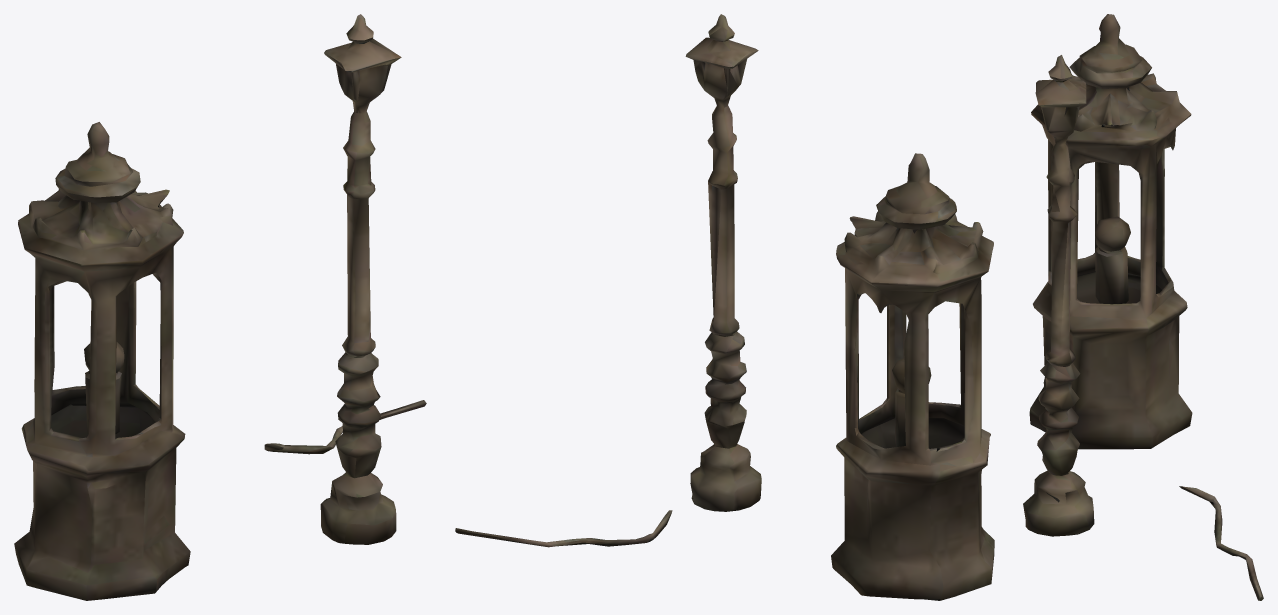
File: old-wood-lamp-post-v001.glb
3 renders of one model, left to right at view 1: azimuth 30°, elevation 25°; view 2: azimuth 150°, elevation 25°; view 3: azimuth 270°, elevation 25°, orthographic. The views are drawn at different scales.
Visible parts, largest first — view 1: old-wood-lamp-post; view 2: old-wood-lamp-post; view 3: old-wood-lamp-post.
Part boxes in pixels (x1,y1,x2,y2): old-wood-lamp-post: (14, 14, 426, 600); old-wood-lamp-post: (455, 14, 994, 600); old-wood-lamp-post: (1023, 14, 1263, 600).
Bounding box in the file's own units: 2.86 × 2.9 × 1.35.
1 material, 1 textured.
